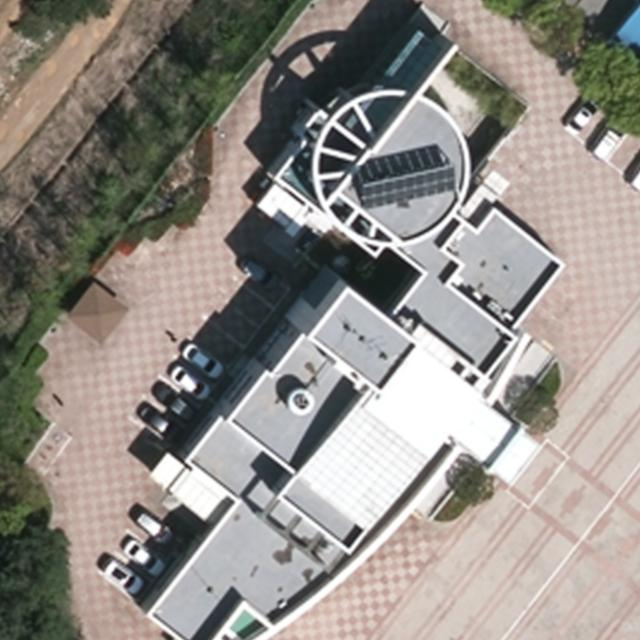panel: (358, 165, 461, 212)
